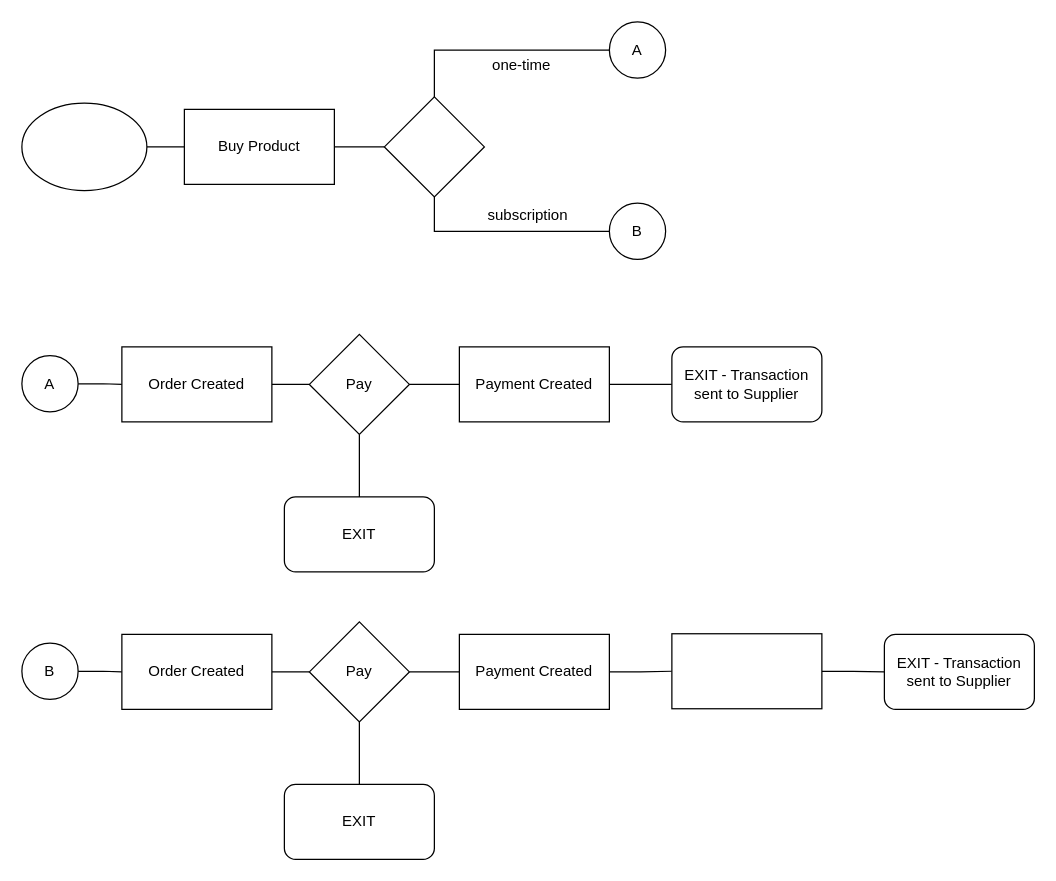
The diagram is 1056 pixels wide and 881 high, and some of its shapes have lost their labels. Here are the shapes that lost their labels. From the top down, the centre of each, then its label:
At pixel 84 146: "User BEGIN".
At pixel 433 146: "Type".
At pixel 746 670: "User Select Delivery Time".
